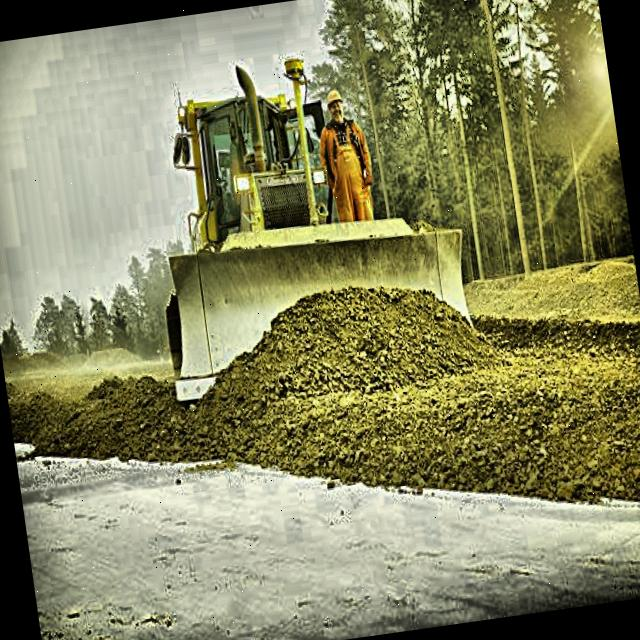helmet: (323, 86, 349, 126)
